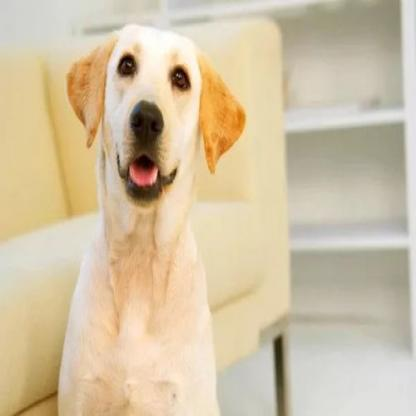Labarador Retriever: (55, 23, 247, 416)
